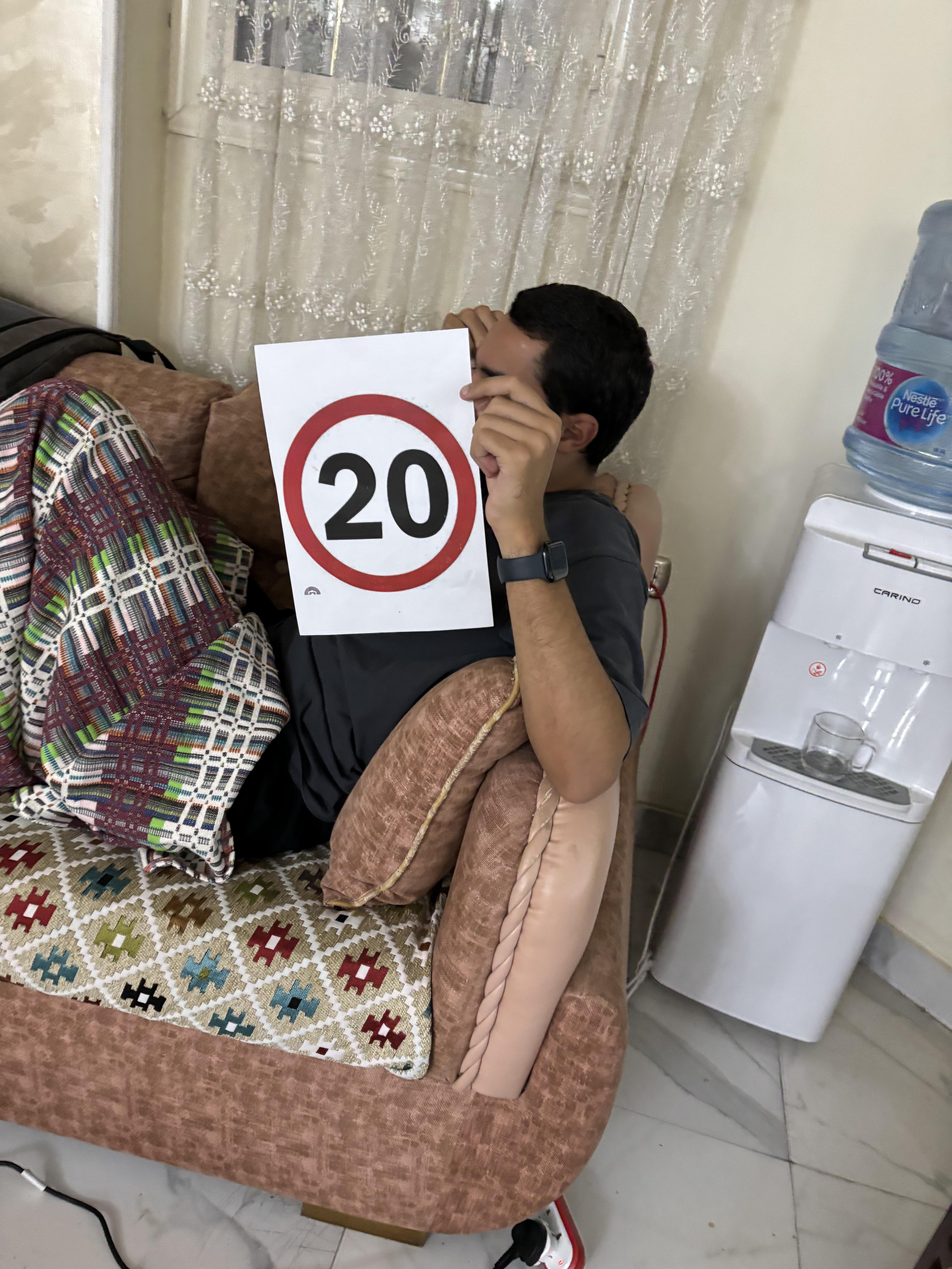20-Speed: (282, 385, 483, 595)
